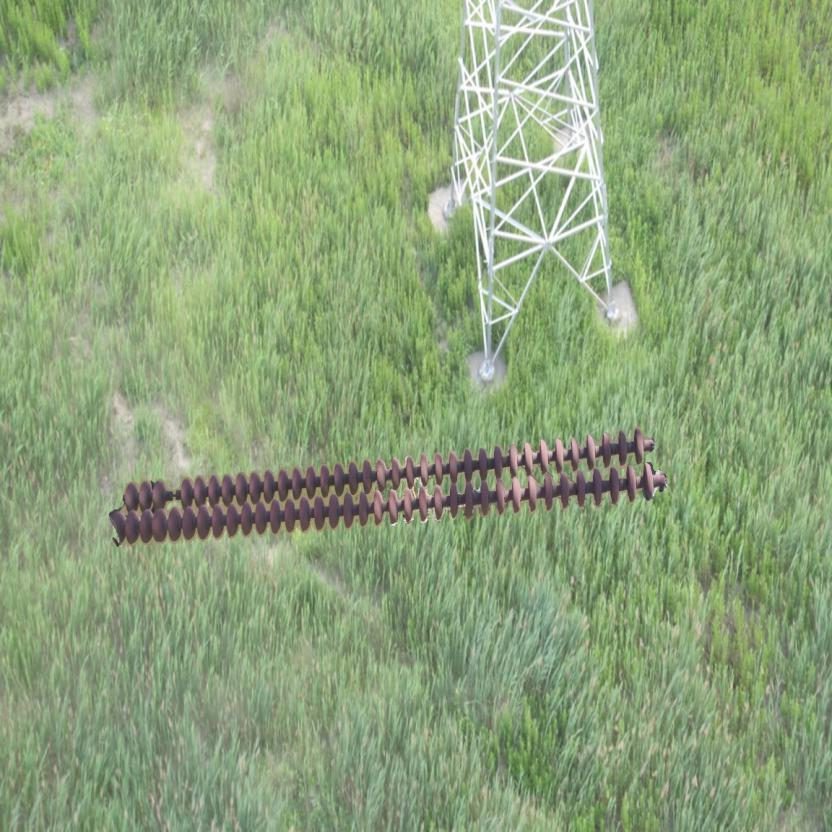defect: (149, 472, 195, 505)
